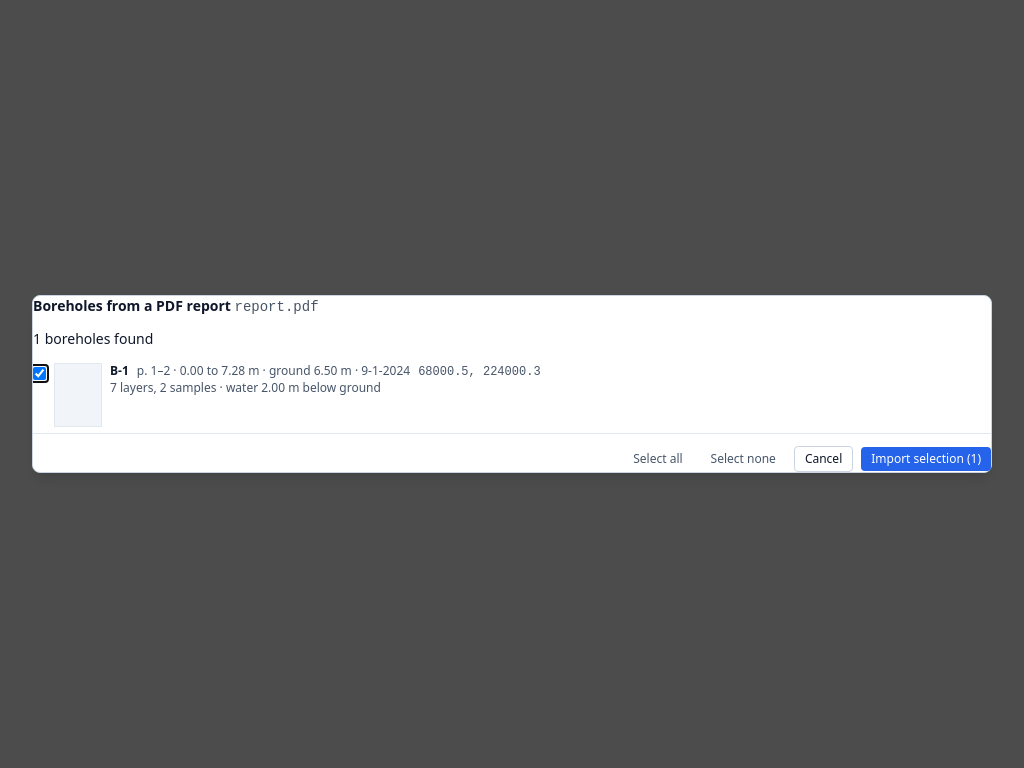
Test: BoreholePdfImportDialog › D6: a refusal is shown in the dialog and nothing is reported
Click the button with test id "borehole-pdf-import" at (926, 459), box [861, 447, 991, 471]
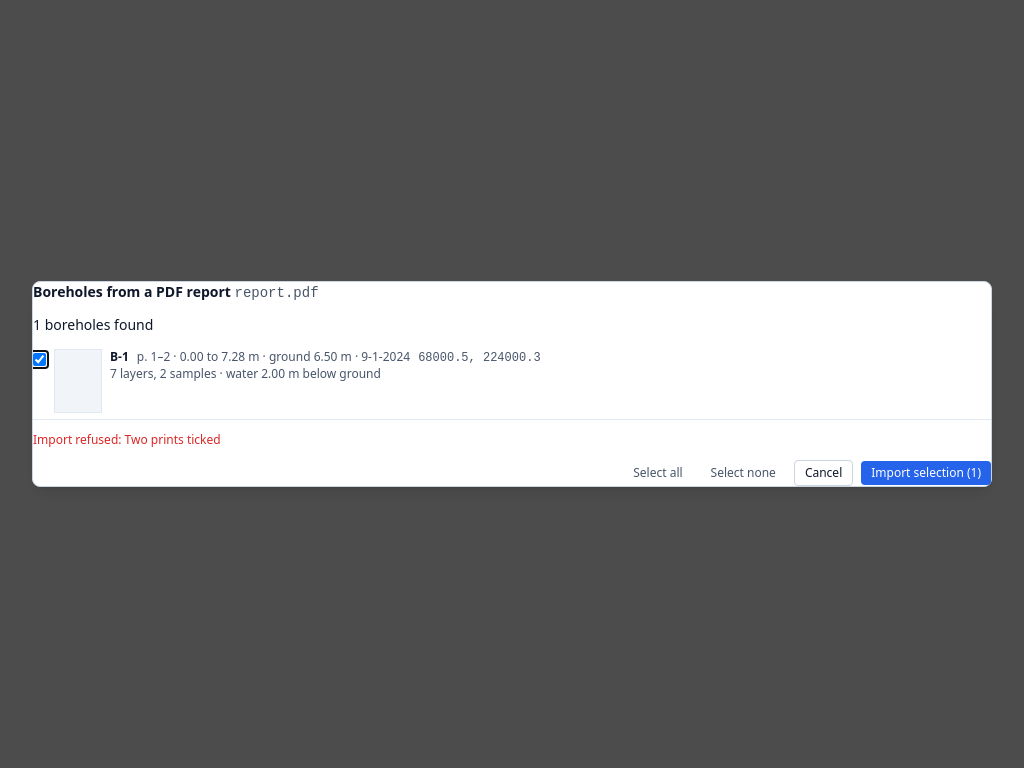
Expected: the text with test id "borehole-pdf-error" shows "Two prints ticked", [33, 431, 221, 448]
